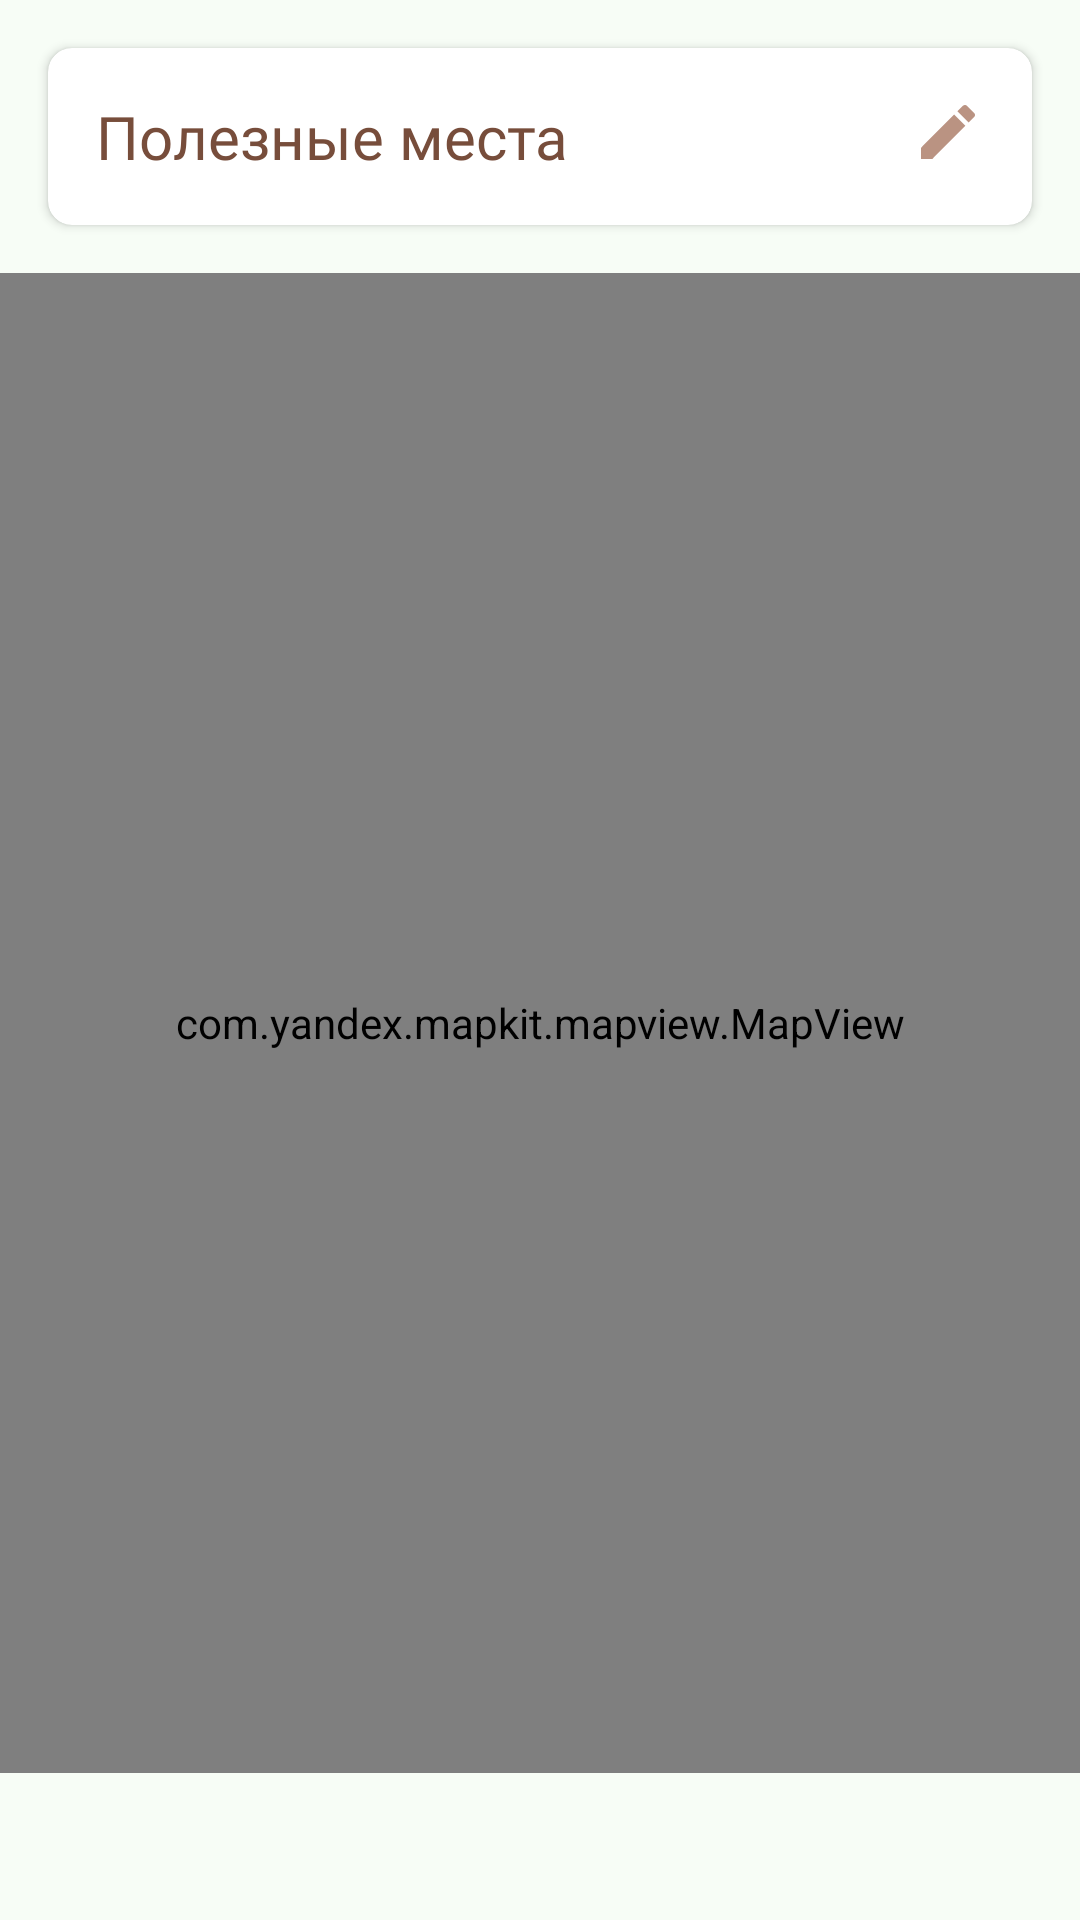

Named icons in this screenshot (1080×1920) and their bounding boxes, [x1,y1,x2,y2]:
edit: [921,105,975,159]
